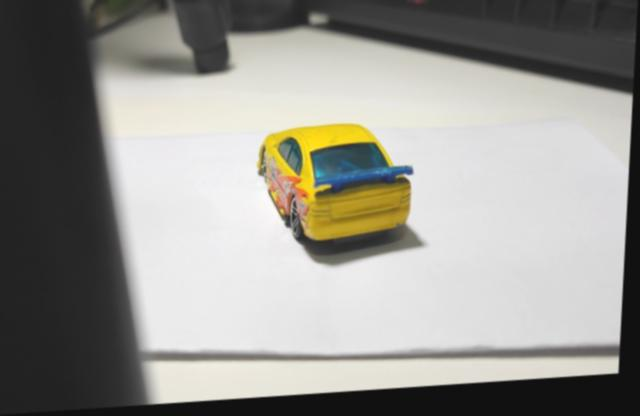02_OZSOME: (258, 129, 414, 247)
